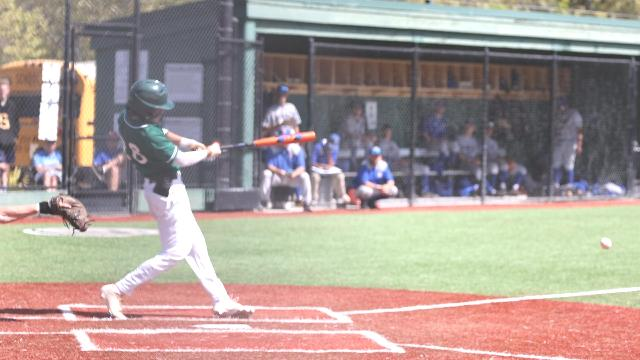ball: (600, 238, 614, 250)
bat: (218, 131, 316, 153)
